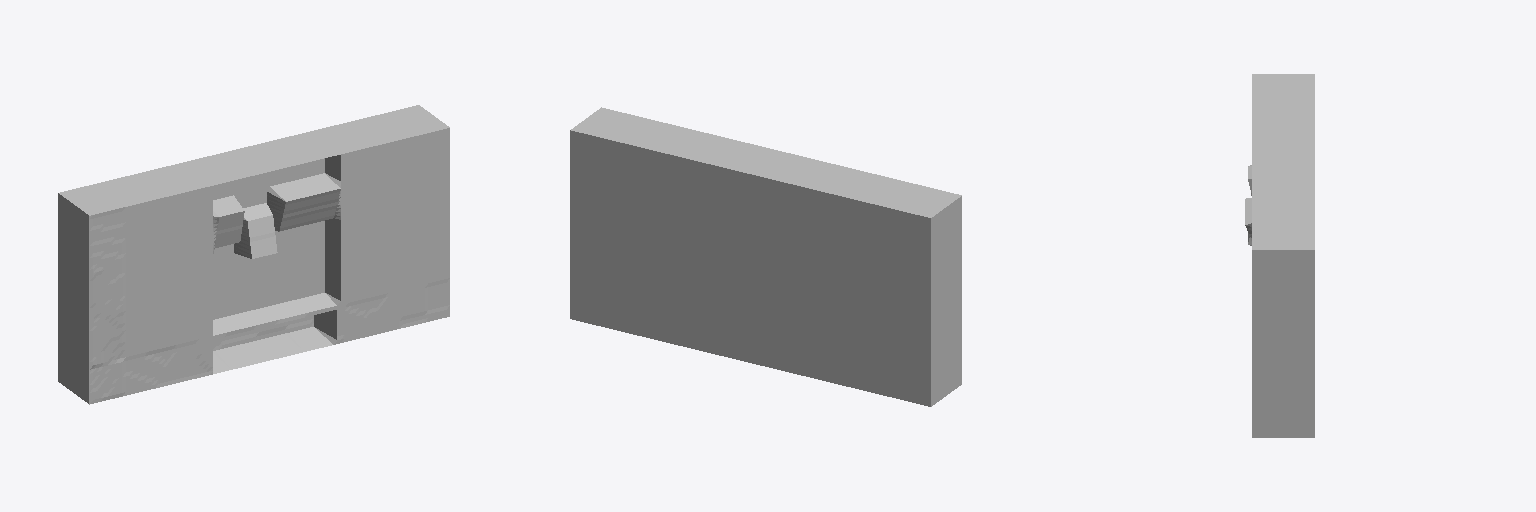
Rendered from rectangular_prism_bumps_4_1.obj.
The picture shows the model from 3 angles: view 1: azimuth 30°, elevation 25°; view 2: azimuth 150°, elevation 25°; view 3: azimuth 270°, elevation 25°; orthographic projection.
Size of the model in its own units: 10 by 5 by 1.67.